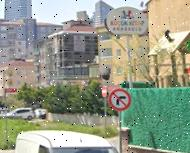rightturnsareforbidden: (109, 89, 131, 110)
